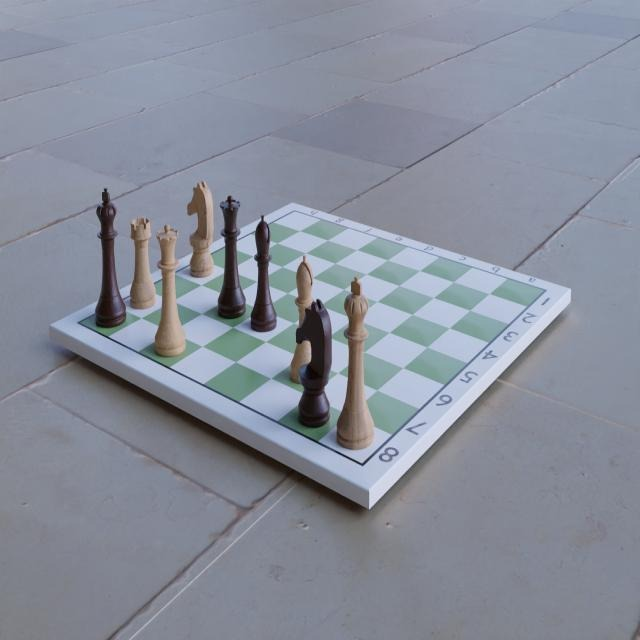black-bishop: (249, 212, 279, 334)
black-king: (93, 186, 127, 329)
black-knight: (292, 297, 331, 430)
black-queen: (215, 194, 246, 320)
white-bishop: (288, 253, 320, 387)
white-king: (335, 274, 377, 457)
white-knight: (185, 180, 216, 278)
white-queen: (153, 222, 188, 359)
white-rook: (127, 213, 156, 311)
